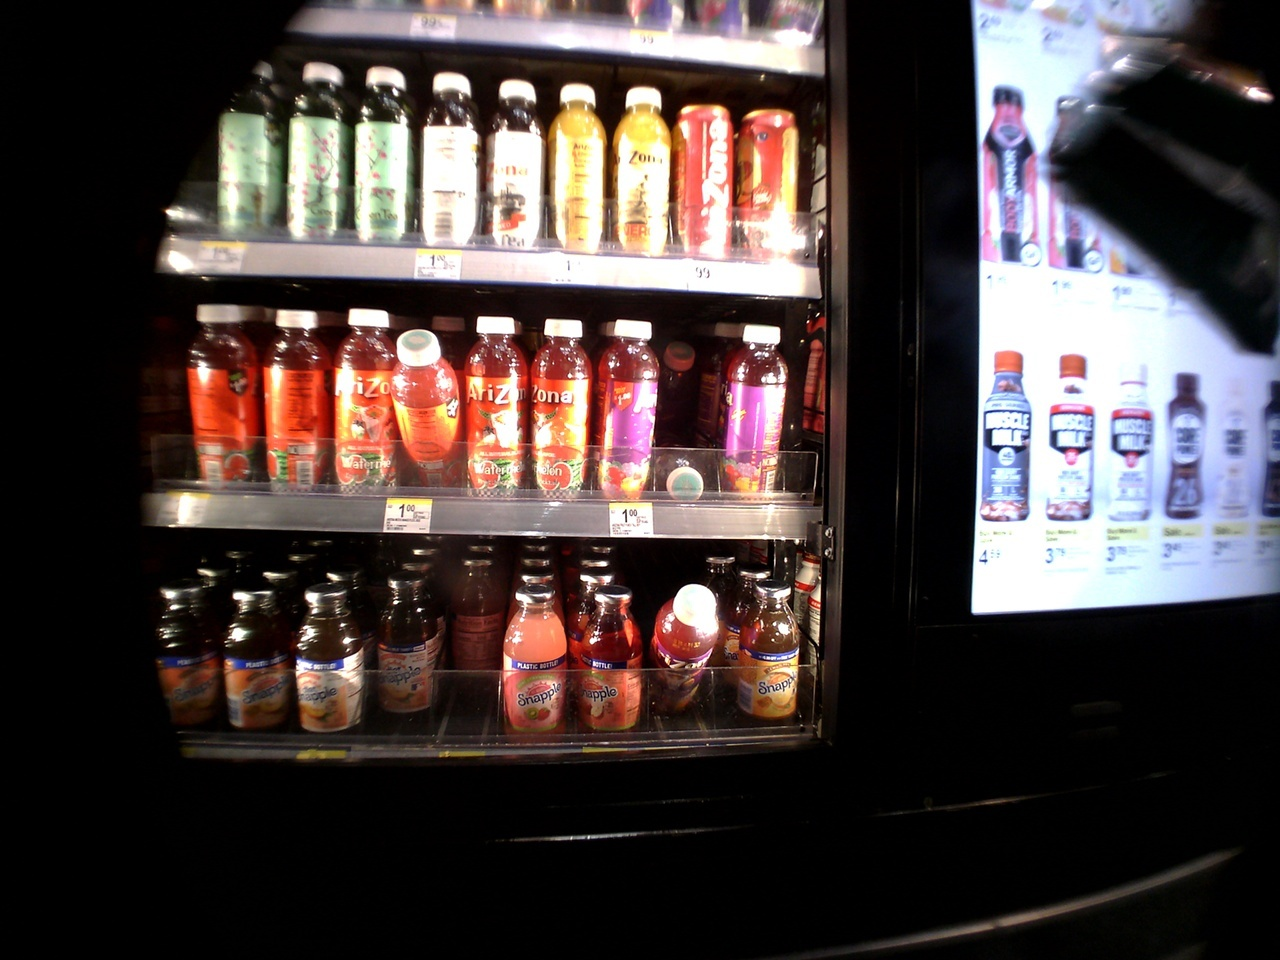shelf: (142, 36, 813, 305), (137, 544, 813, 777), (137, 305, 797, 539)
